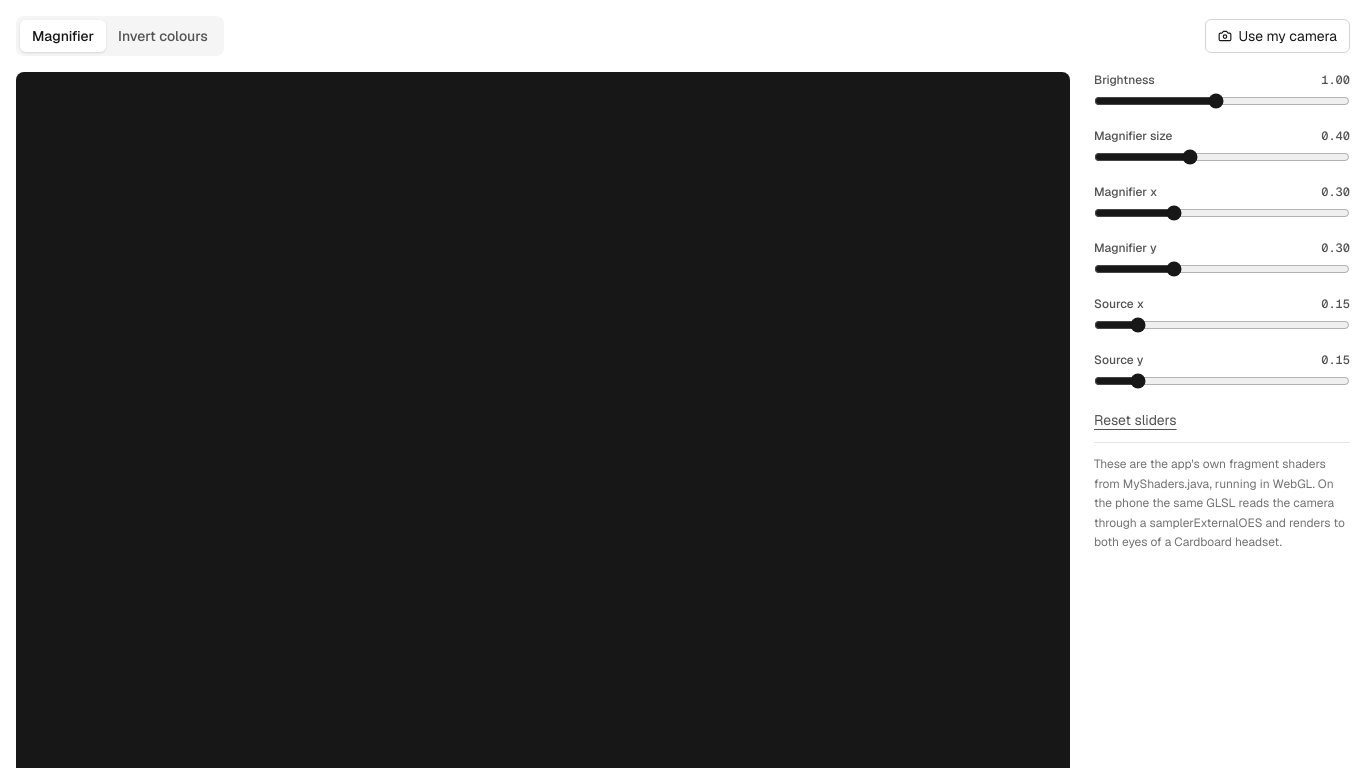
Scenario: VRVisionDemo › shows only brightness for the inversion shader
Step 1. Click the tab "Invert colours" → click(163, 36), box [106,20,220,52]
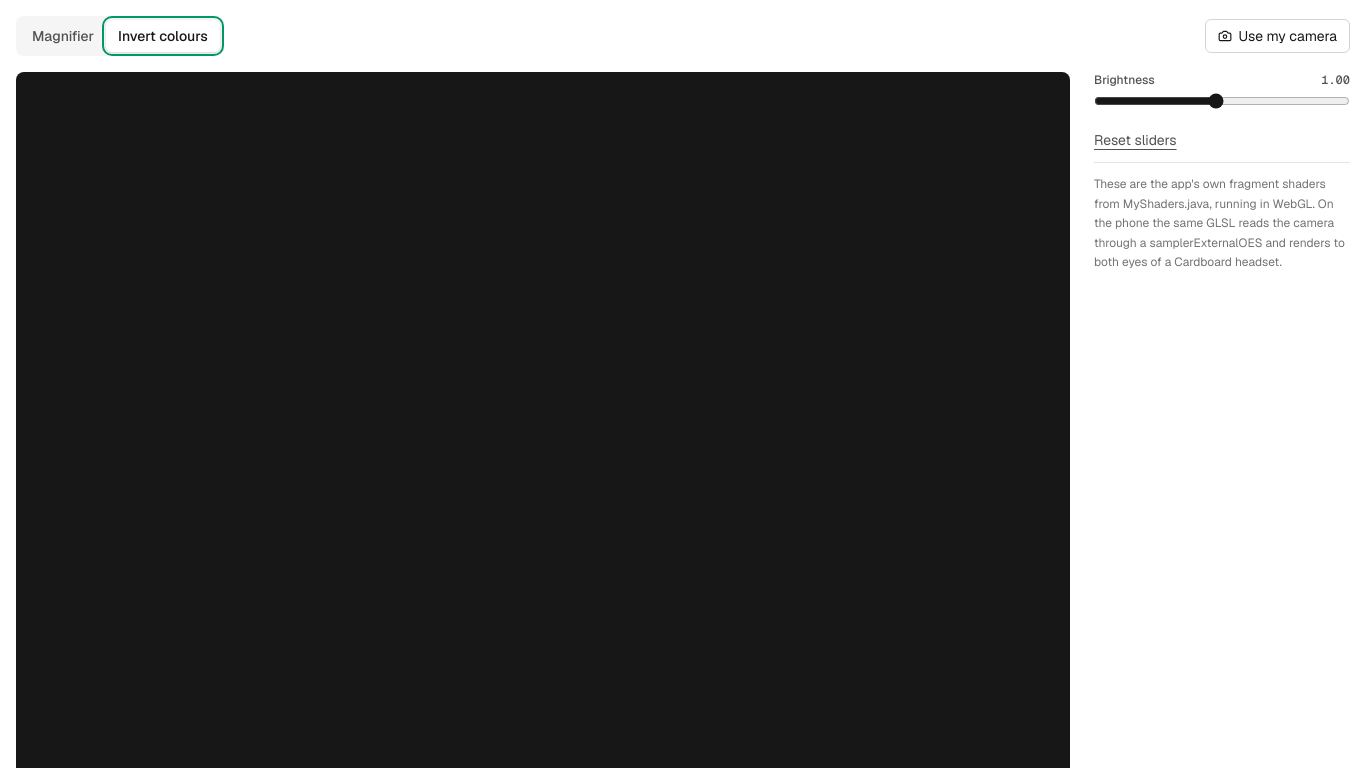
Expected: the slider labelled "Brightness 1.00" is shown, [1094,93,1350,109]
Result: the text labelled "Magnifier size" is gone
